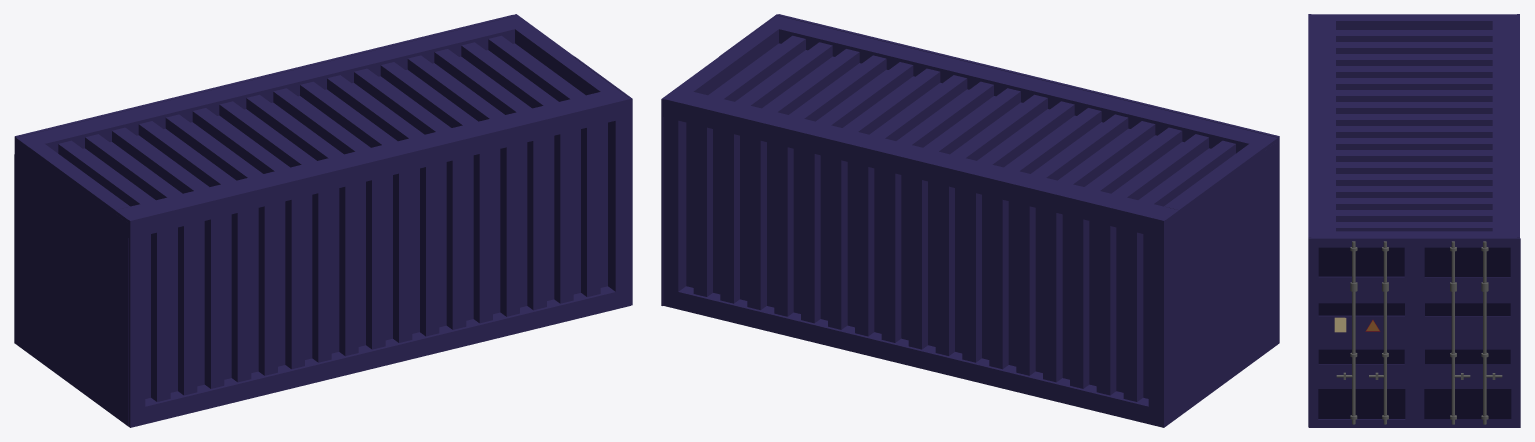
The model's file is Building_CargoContainer_Blue.fbx.
3 views of the same model, side by side, from view 1: azimuth 30°, elevation 25°; view 2: azimuth 150°, elevation 25°; view 3: azimuth 270°, elevation 25° (orthographic). The views are drawn at different scales.
Parts seen in each view (by area): view 1: Cube; view 2: Cube, Cylinder.003; view 3: Cube, Cylinder.002, Cylinder.003.
Boxes of the visible parts, x1=… form: Cube: x1=14, y1=14, x2=630, y2=427; Cube: x1=663, y1=14, x2=1279, y2=427; Cylinder.003: x1=661, y1=56, x2=719, y2=305; Cube: x1=1308, y1=14, x2=1519, y2=426; Cylinder.002: x1=1308, y1=238, x2=1414, y2=427; Cylinder.003: x1=1414, y1=238, x2=1520, y2=427.
Bounding box in the file's own units: 521 × 204 × 207.
